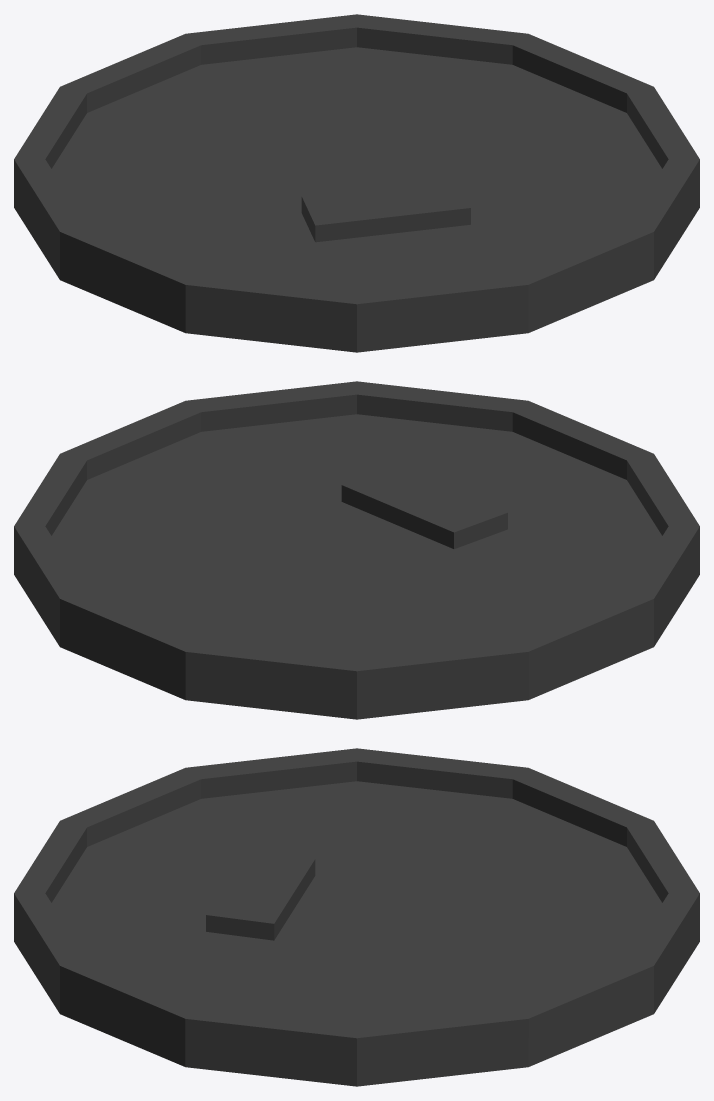
Rendered from Sewer Cover.fbx.
3 views of the same model, one above another, from view 1: azimuth 30°, elevation 25°; view 2: azimuth 150°, elevation 25°; view 3: azimuth 270°, elevation 25° (orthographic).
Visible parts, largest first — view 1: Sewer Cover; view 2: Sewer Cover; view 3: Sewer Cover.
Part boxes in pixels (bbox=[...]): Sewer Cover: bbox=[14, 14, 699, 352]; Sewer Cover: bbox=[14, 381, 699, 719]; Sewer Cover: bbox=[14, 748, 699, 1086].
Bounding box in the file's own units: 77.33 × 77.33 × 6.02.
